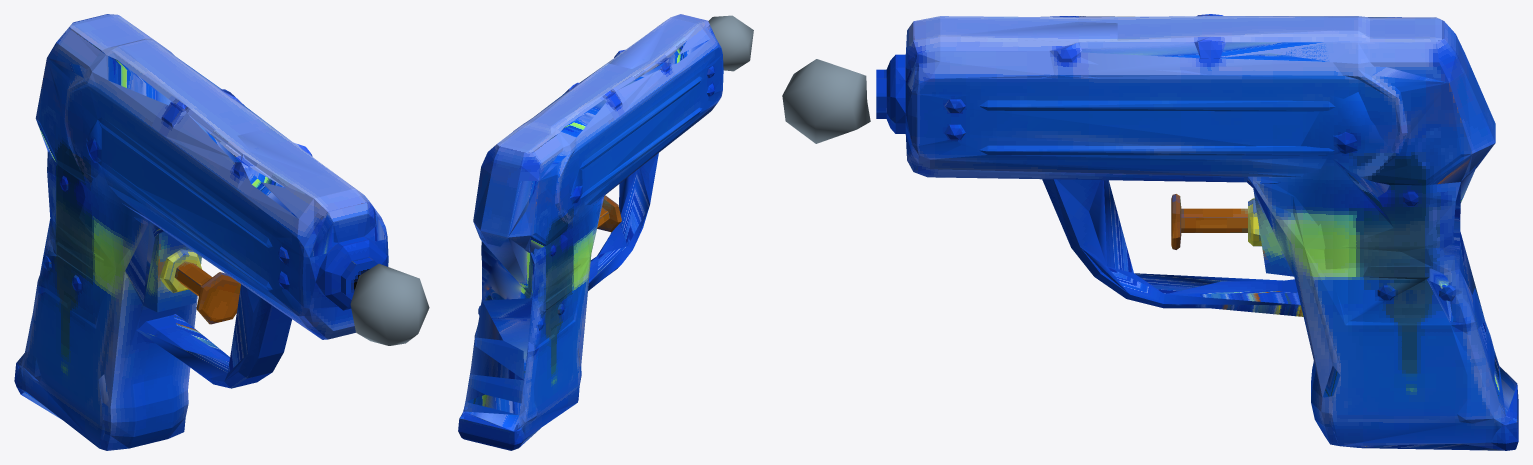
The model's file is item_water_gun_blue.glb.
3 renders of one model, left to right at view 1: azimuth 30°, elevation 25°; view 2: azimuth 150°, elevation 25°; view 3: azimuth 270°, elevation 25°, orthographic. The views are drawn at different scales.
Parts seen in each view (by area): view 1: WaterPistol, WaterDrip; view 2: WaterPistol, WaterDrip; view 3: WaterPistol, WaterDrip.
Part boxes in pixels (left/top/right/bottom): WaterPistol: left=14, top=14, right=388, bottom=450; WaterDrip: left=350, top=263, right=429, bottom=345; WaterPistol: left=458, top=14, right=723, bottom=450; WaterDrip: left=708, top=15, right=753, bottom=71; WaterPistol: left=876, top=14, right=1518, bottom=450; WaterDrip: left=782, top=59, right=870, bottom=143.
Bounding box in the file's own units: 0.0466 × 0.1824 × 0.2975.
2 materials, 1 textured.
